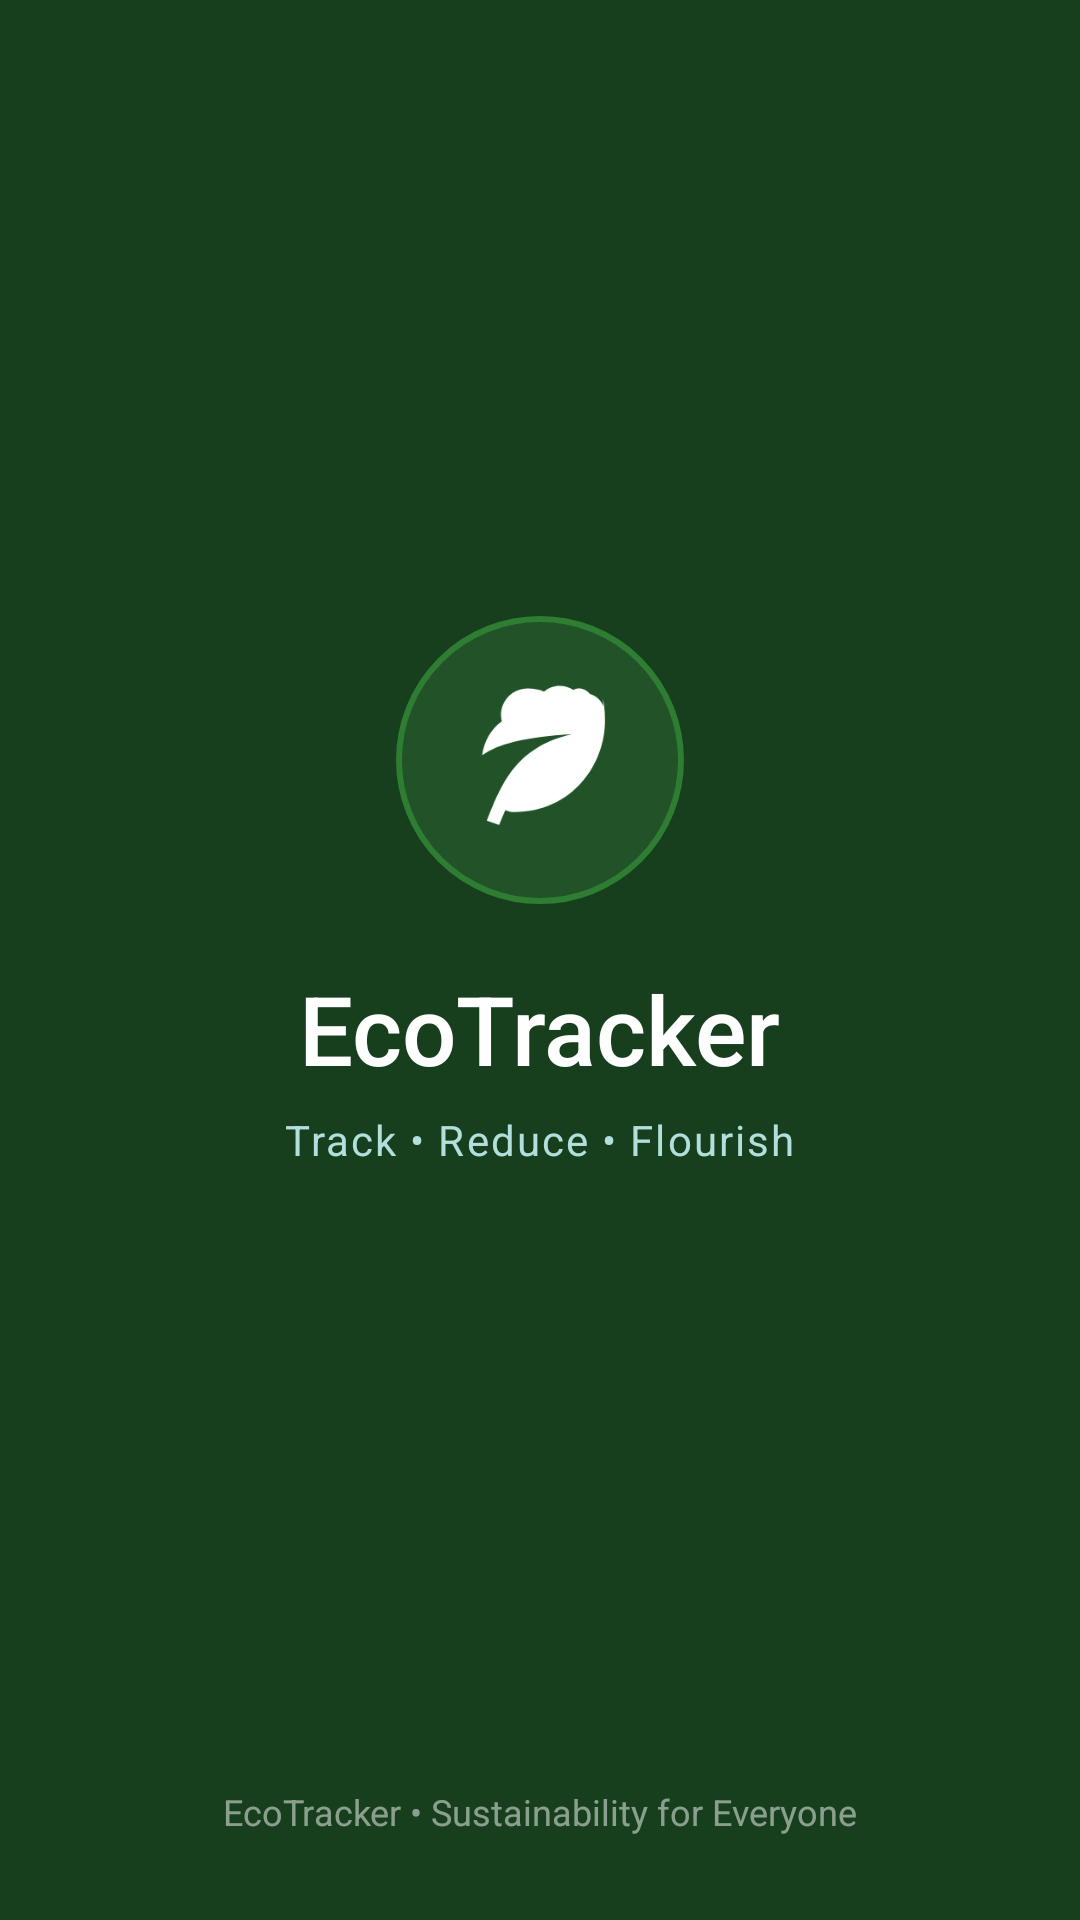

Named icons in this screenshot (1080 x 1920) and their bounding boxes, (x1, y1, x2, y2):
leaf: (482, 685, 605, 825)
